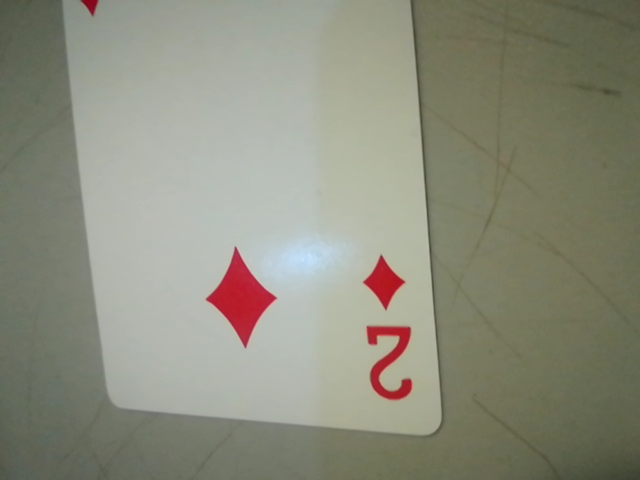fk 2: (346, 242, 430, 415)
